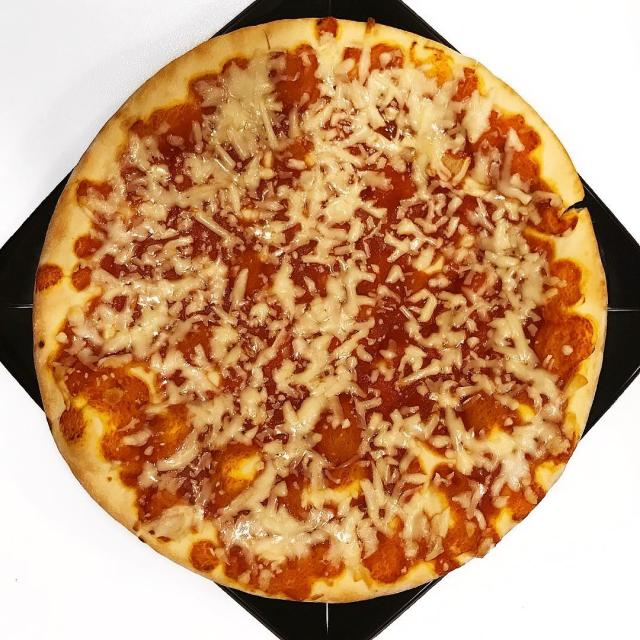pizza: (35, 19, 606, 602)
